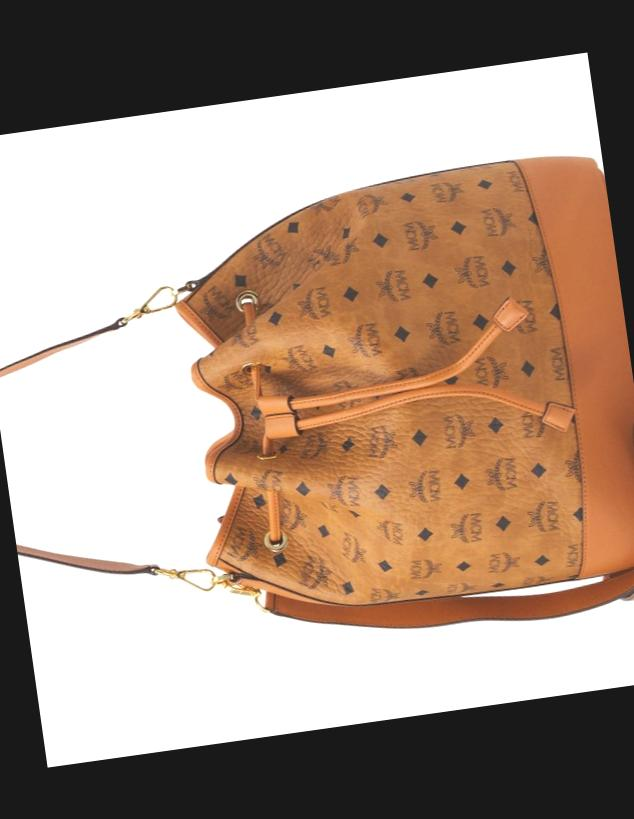MCM: (176, 154, 592, 629)
